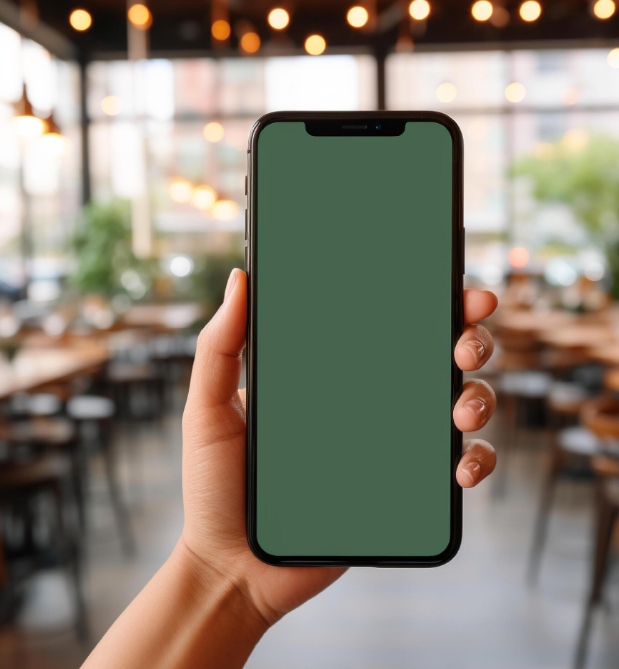Phone: (227, 112, 478, 581)
